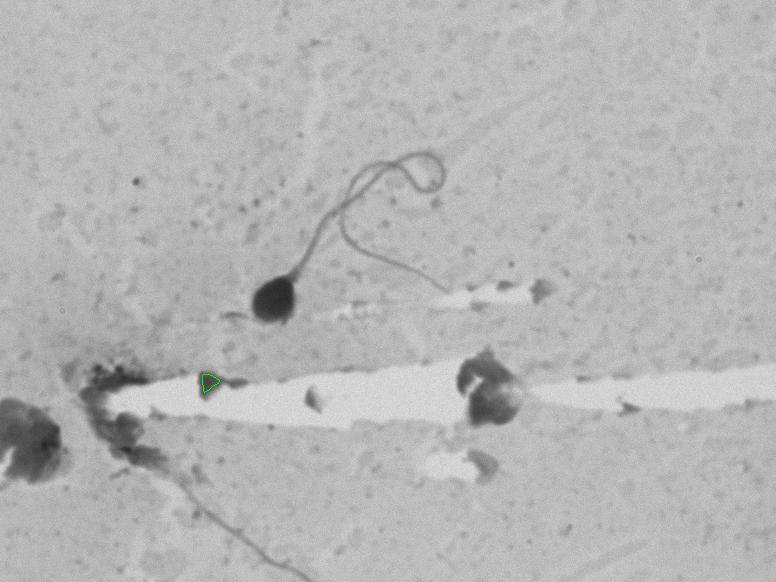Abnormal: (220, 122, 469, 343)
